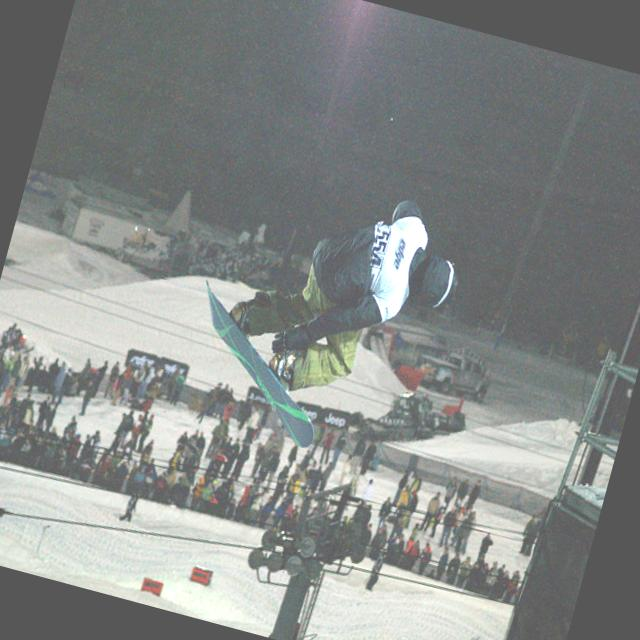Vehicle: (69, 200, 177, 270), (372, 384, 454, 455), (407, 341, 496, 406)
